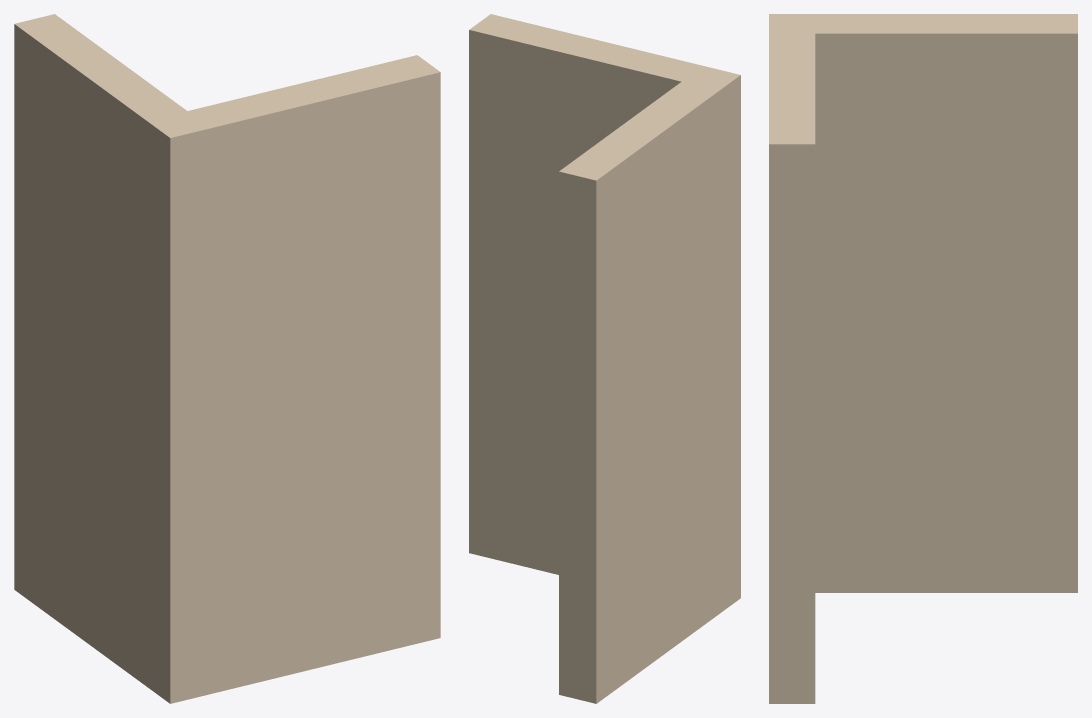
The model's file is CreamCorner.glb.
The picture shows the model from 3 angles, left to right: view 1: azimuth 30°, elevation 25°; view 2: azimuth 150°, elevation 25°; view 3: azimuth 270°, elevation 25°; orthographic projection. The views are drawn at different scales.
Parts seen in each view (by area): view 1: wall_plain_corner_cream; view 2: wall_plain_corner_cream; view 3: wall_plain_corner_cream.
Part boxes in pixels (left/top/right/bottom): wall_plain_corner_cream: left=14, top=14, right=440, bottom=703; wall_plain_corner_cream: left=469, top=14, right=740, bottom=703; wall_plain_corner_cream: left=769, top=14, right=1077, bottom=703.
Size of what is drawn, in the model's own units: 2 by 4 by 2.
1 material, 1 textured.
